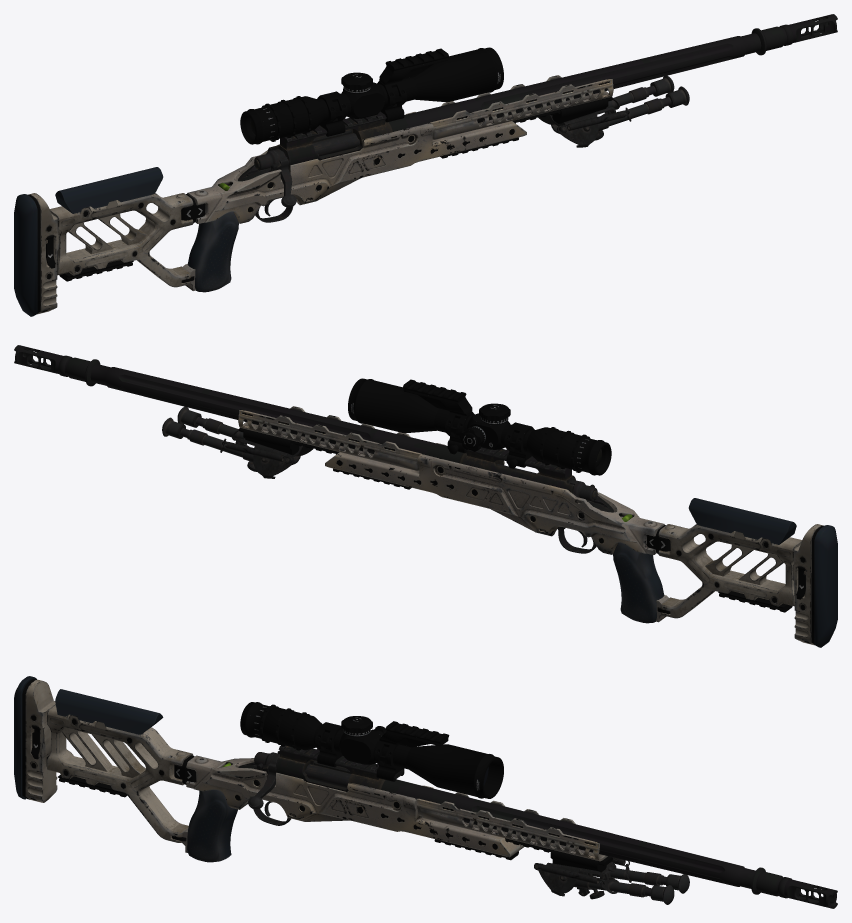
3 renders of one model, top to bottom at view 1: azimuth 30°, elevation 25°; view 2: azimuth 150°, elevation 25°; view 3: azimuth 330°, elevation 25°, orthographic.
Visible parts, largest first — view 1: mtl_wpn_h1_sni_m40a3_asn_receiver_camo_3, mtl_wpn_h1_sni_m40a3_asn_stock_camo_5, mtl_wpn_h1_sni_m40a3_asn_scope_10, mtl_wpn_h1_sni_m40a3_receiver_camo_7, mtl_wpn_h1_sni_m21_bipod_1; view 2: mtl_wpn_h1_sni_m40a3_asn_receiver_camo_3, mtl_wpn_h1_sni_m40a3_asn_stock_camo_5, mtl_wpn_h1_sni_m40a3_asn_scope_10, mtl_wpn_h1_sni_m21_bipod_1, mtl_wpn_h1_sni_m40a3_receiver_camo_7; view 3: mtl_wpn_h1_sni_m40a3_asn_receiver_camo_3, mtl_wpn_h1_sni_m40a3_asn_stock_camo_5, mtl_wpn_h1_sni_m40a3_asn_scope_10, mtl_wpn_h1_sni_m40a3_receiver_camo_7, mtl_wpn_h1_sni_m21_bipod_1.
Part boxes in pixels (<box>): mtl_wpn_h1_sni_m40a3_asn_receiver_camo_3: <box>183,14,837,292</box>; mtl_wpn_h1_sni_m40a3_asn_stock_camo_5: <box>14,167,204,316</box>; mtl_wpn_h1_sni_m40a3_asn_scope_10: <box>240,47,503,144</box>; mtl_wpn_h1_sni_m40a3_receiver_camo_7: <box>238,111,392,222</box>; mtl_wpn_h1_sni_m21_bipod_1: <box>538,75,689,147</box>; mtl_wpn_h1_sni_m40a3_asn_receiver_camo_3: <box>14,345,668,623</box>; mtl_wpn_h1_sni_m40a3_asn_stock_camo_5: <box>647,498,837,647</box>; mtl_wpn_h1_sni_m40a3_asn_scope_10: <box>348,378,611,475</box>; mtl_wpn_h1_sni_m21_bipod_1: <box>162,406,313,478</box>; mtl_wpn_h1_sni_m40a3_receiver_camo_7: <box>459,447,613,553</box>; mtl_wpn_h1_sni_m40a3_asn_receiver_camo_3: <box>182,753,837,908</box>; mtl_wpn_h1_sni_m40a3_asn_stock_camo_5: <box>14,676,196,842</box>; mtl_wpn_h1_sni_m40a3_asn_scope_10: <box>240,702,503,798</box>; mtl_wpn_h1_sni_m40a3_receiver_camo_7: <box>238,745,403,825</box>; mtl_wpn_h1_sni_m21_bipod_1: <box>534,857,689,904</box>.
Size of the model in its own units: 116 by 24.21 by 8.56.
Materials: 5 (5 with a texture image).
